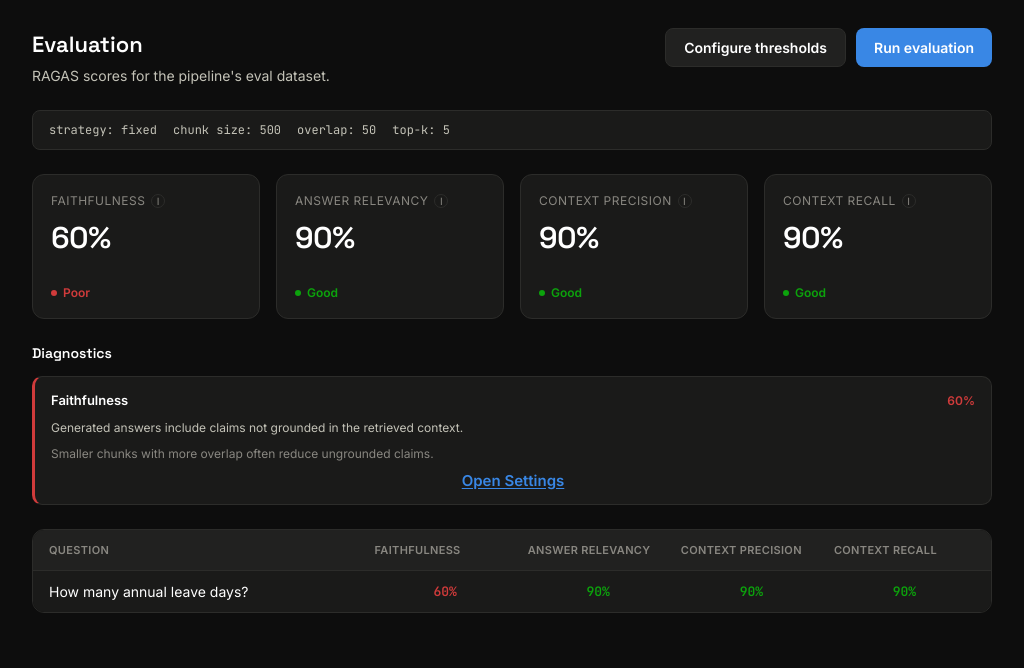
Scenario: EvaluationView › toggles the thresholds panel
Expected: the text "Quality thresholds" is not shown
Click the button "Configure thresholds".
click(756, 48)  # box [665,28,846,67]
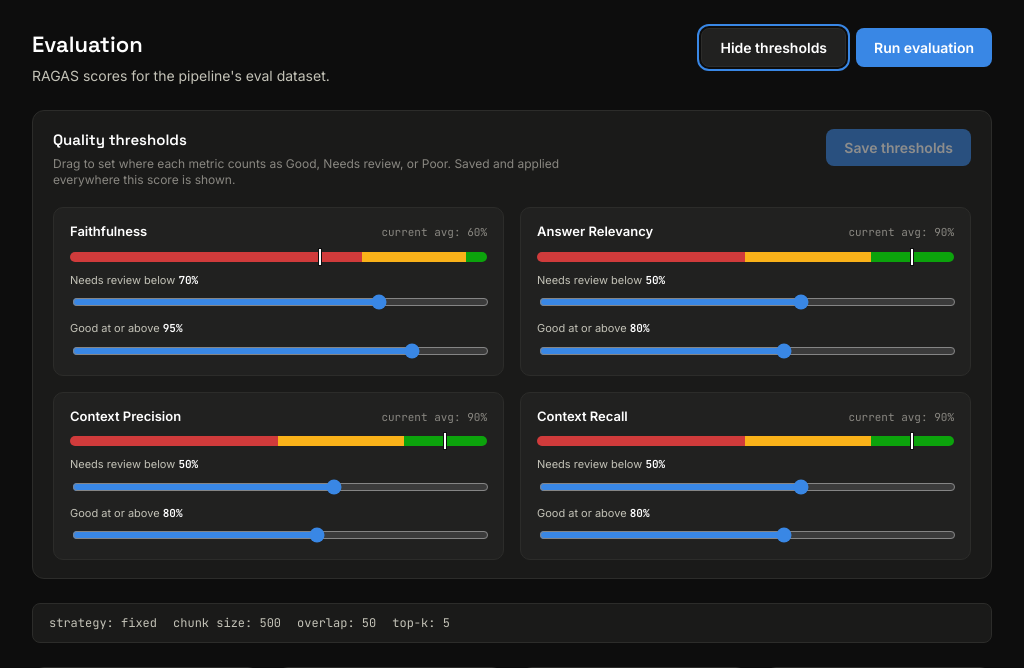
Expected: the heading "Quality thresholds" is shown, [53,130,187,149]
Click the button "Hide thresholds".
click(774, 48)  # box [702,28,846,67]
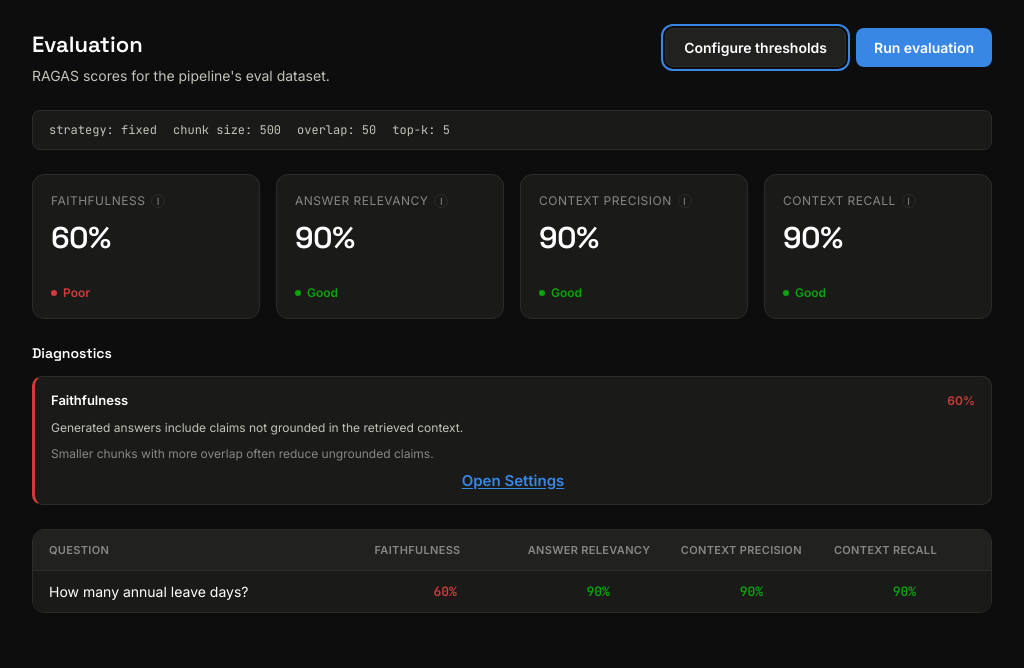
Expected: the heading "Quality thresholds" is gone
